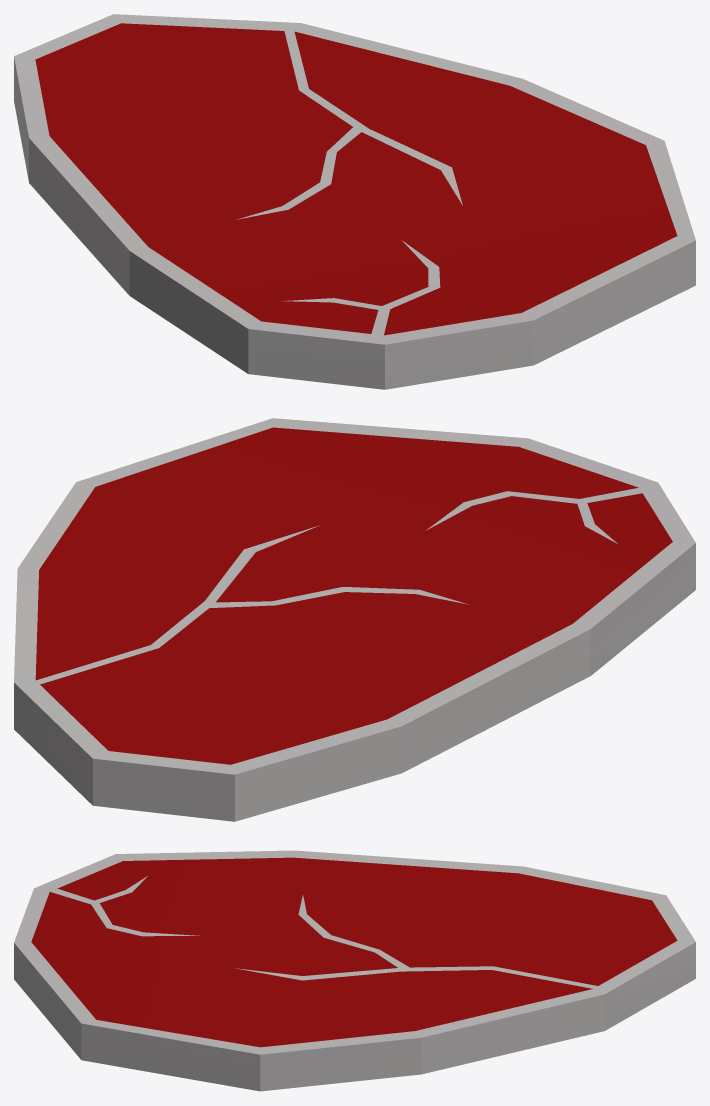
File: Meat.fbx
3 views of the same model, one above another, from view 1: azimuth 30°, elevation 25°; view 2: azimuth 150°, elevation 25°; view 3: azimuth 270°, elevation 25° (orthographic). The views are drawn at different scales.
Parts seen in each view (by area): view 1: Meat; view 2: Meat; view 3: Meat.
Boxes of the visible parts, x1=… form: Meat: x1=14, y1=14, x2=695, y2=389; Meat: x1=14, y1=418, x2=695, y2=821; Meat: x1=14, y1=850, x2=695, y2=1091.
Size of the model in its own units: 12.65 by 1.06 by 17.85.
